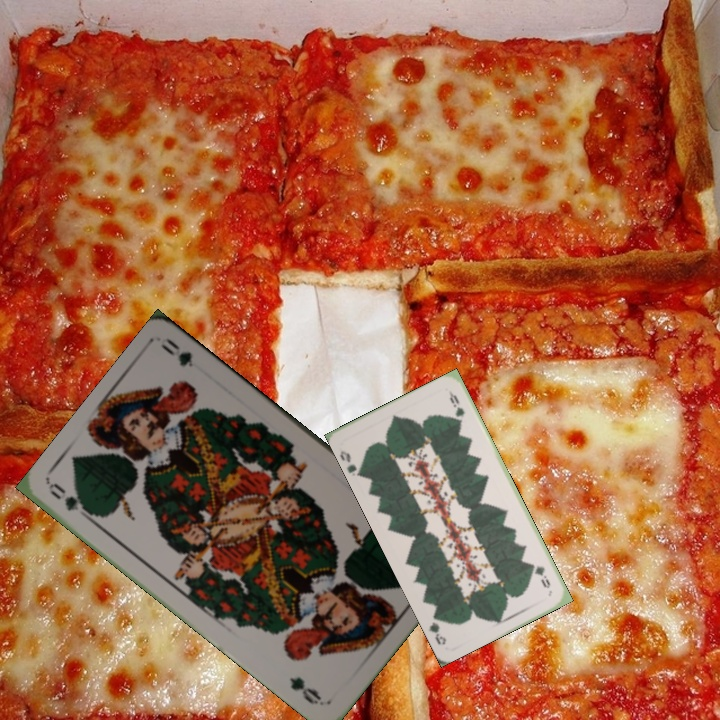G9: (336, 446, 365, 479), (528, 560, 553, 591)
GO: (46, 479, 101, 525)
